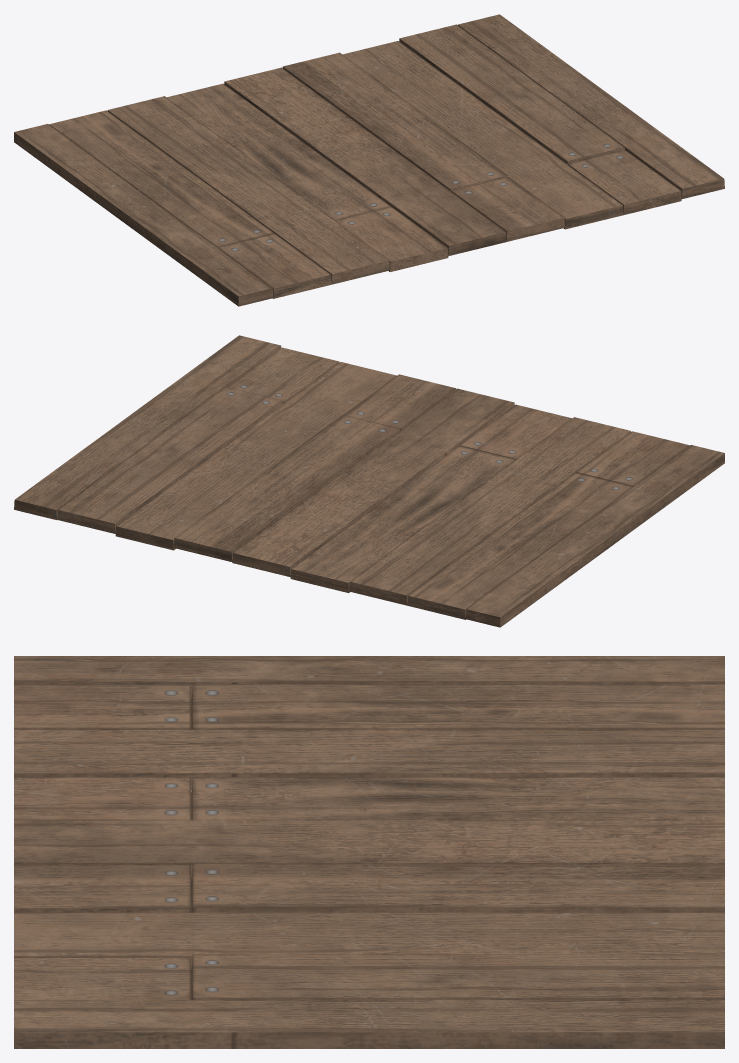
File: SM_Floor02a.fbx
3 views of the same model, one above another, from view 1: azimuth 30°, elevation 25°; view 2: azimuth 150°, elevation 25°; view 3: azimuth 270°, elevation 25° (orthographic). The views are drawn at different scales.
Visible parts, largest first — view 1: SM_Floor02a; view 2: SM_Floor02a; view 3: SM_Floor02a.
Boxes of the visible parts, x1=… form: SM_Floor02a: x1=14, y1=14, x2=724, y2=306; SM_Floor02a: x1=14, y1=335, x2=724, y2=627; SM_Floor02a: x1=14, y1=656, x2=724, y2=1048.
Bounding box in the file's own units: 250 × 6.23 × 200.
